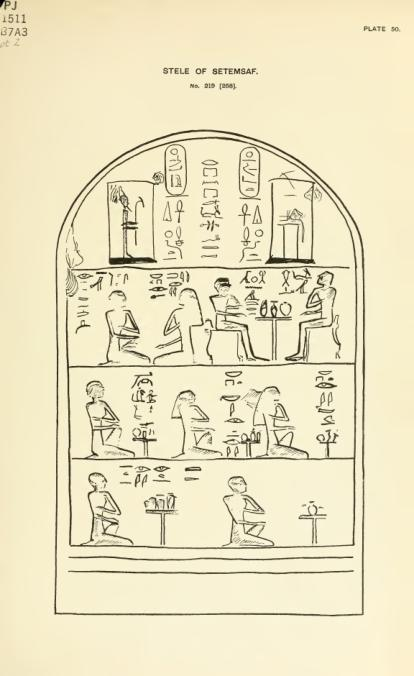circle: (163, 143, 192, 199), (235, 144, 263, 202)
